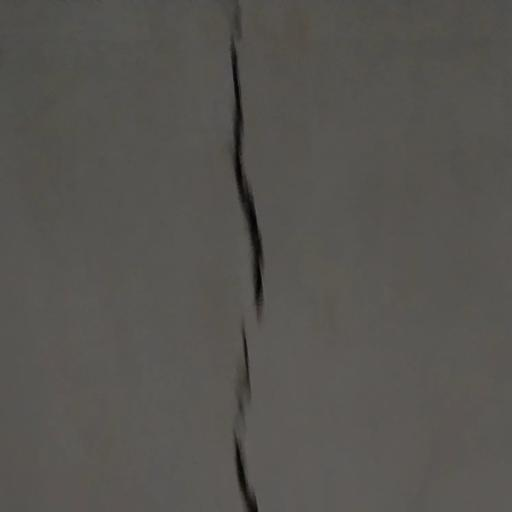stain: (187, 0, 275, 512)
